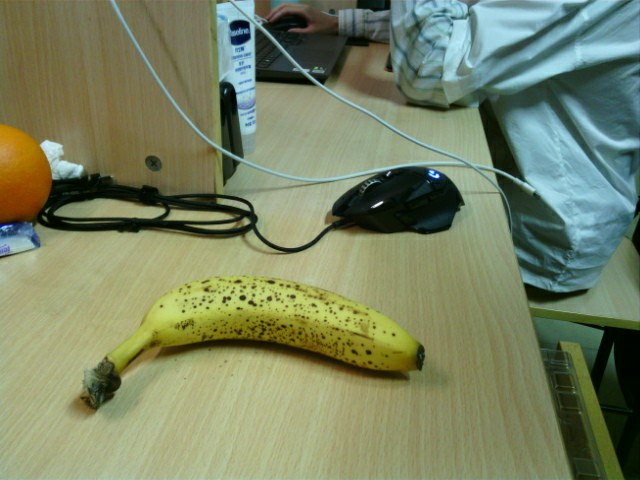normal_banana: (83, 278, 427, 411)
normal_orange: (1, 124, 52, 221)
